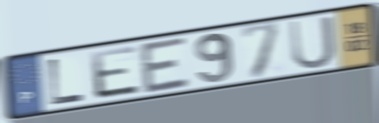7: (240, 20, 283, 82)
9: (193, 31, 236, 84)
E: (138, 34, 193, 96), (88, 43, 144, 101)
L: (47, 56, 88, 107)
U: (287, 13, 339, 72)
